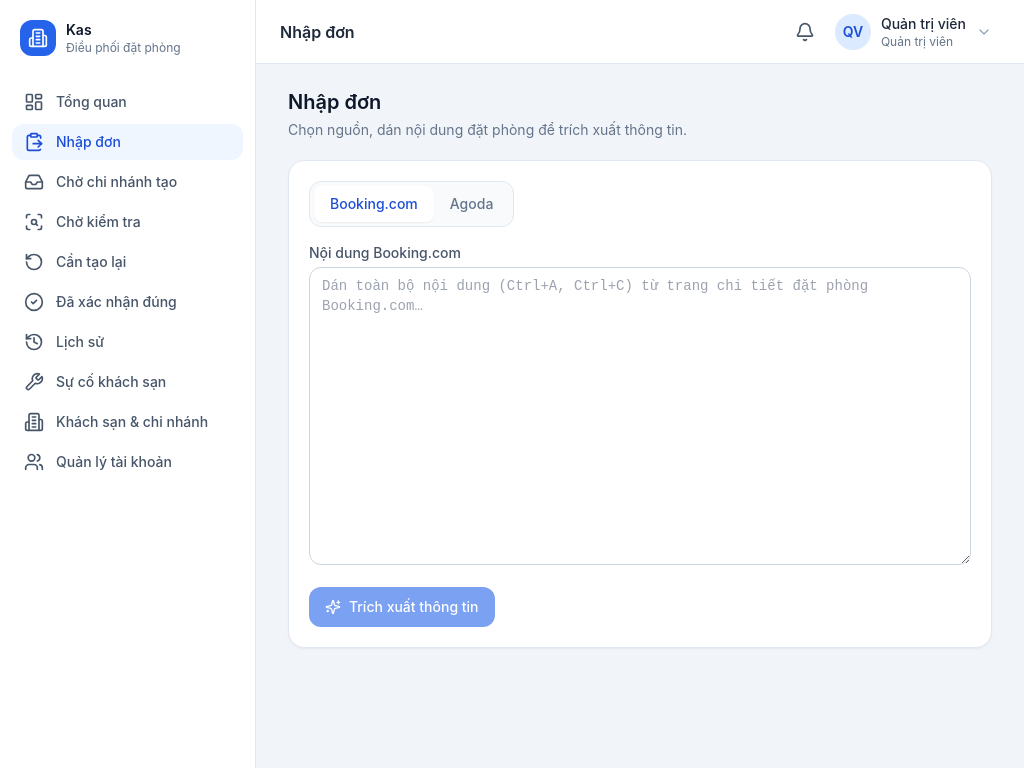
Test: DispatchPage — data-quality / confidence display › shows the review banner when the extraction requires admin review
This screenshot has width=1024, height=768.
Type "Booking.com raw text" into the text box at coordinates (640, 416), box [309, 267, 971, 565]
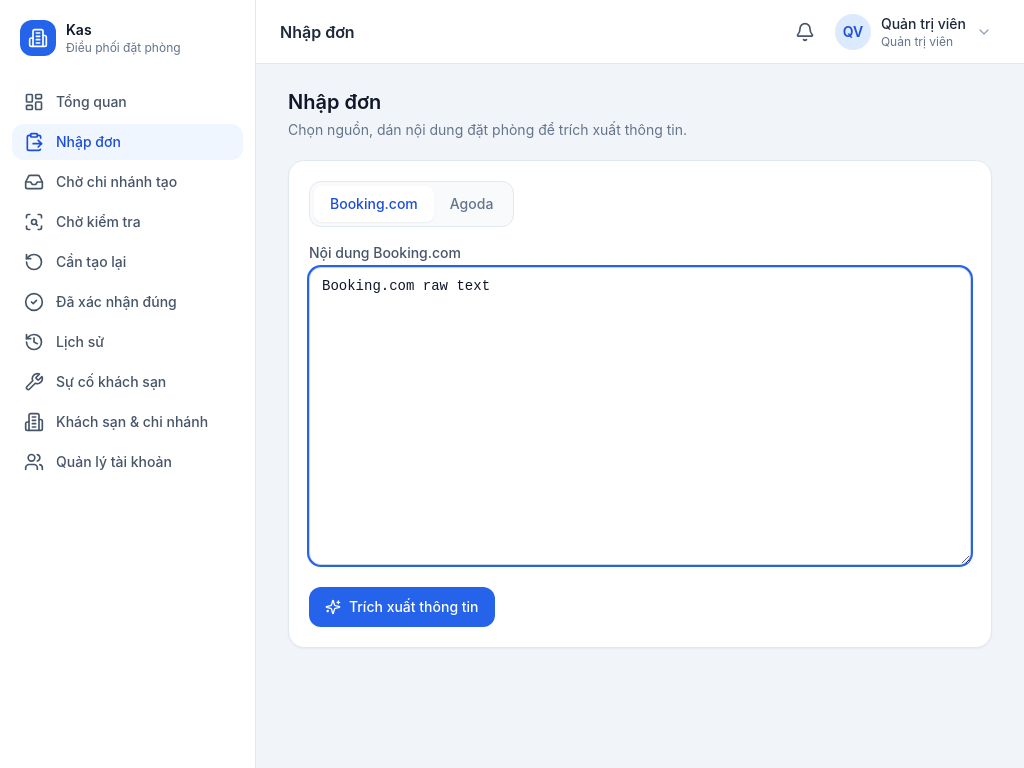
Click the button "Trích xuất thông tin" at coordinates (402, 607), box [309, 587, 494, 627]
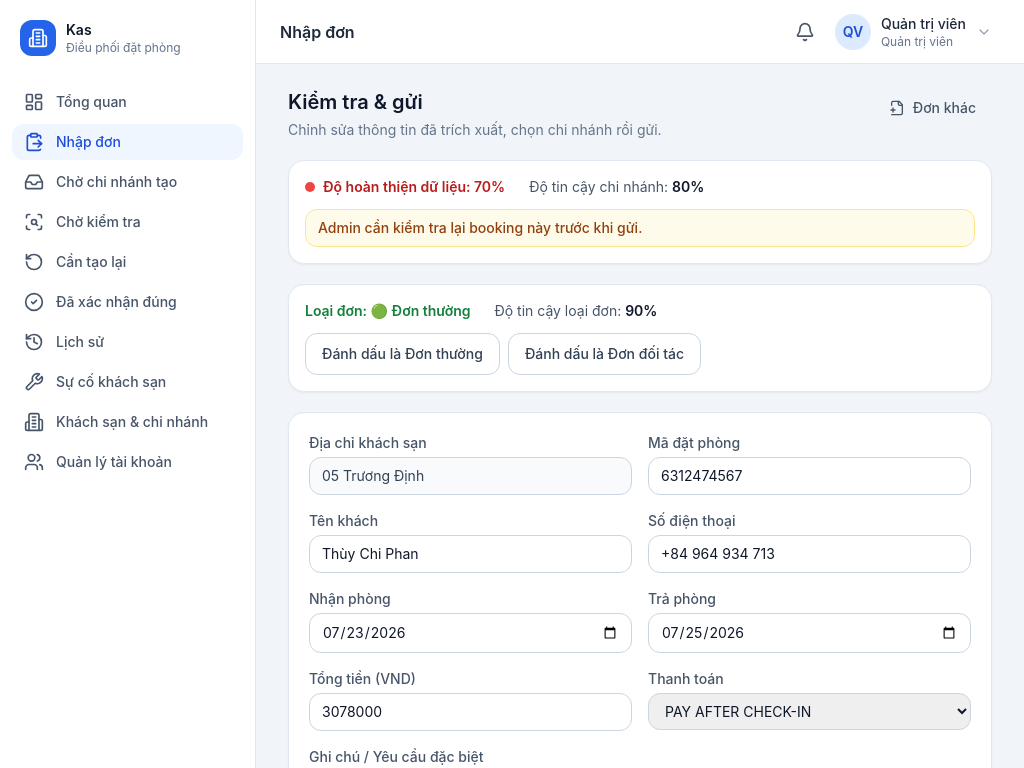
Expected: the text "Admin cần kiểm tra lại booking này trước khi gửi." is shown, [305, 209, 975, 247]
Expected: the text "70%" is shown, [474, 178, 505, 195]
Expected: the text "80%" is shown, [672, 178, 704, 195]
